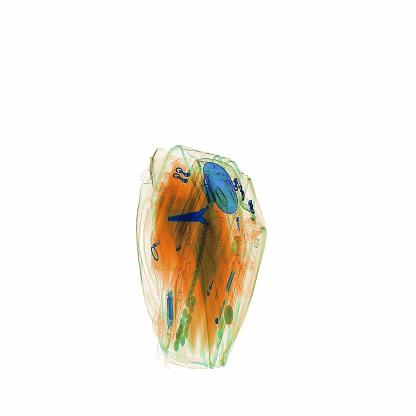gun: (164, 191, 236, 238)
